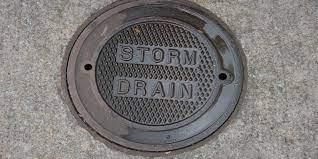open manhole-not overflowing-: (65, 0, 246, 153)
